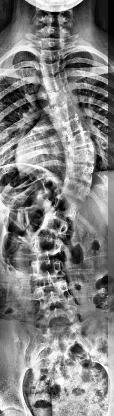Vertebrae: (33, 278, 73, 306), (28, 257, 72, 279), (25, 235, 67, 257), (40, 209, 72, 237), (39, 310, 85, 328), (51, 194, 84, 218), (56, 118, 94, 138), (67, 162, 97, 186), (58, 131, 96, 149), (63, 178, 91, 202), (63, 148, 102, 164), (46, 92, 76, 112), (51, 106, 82, 124), (44, 76, 70, 96), (40, 63, 66, 79), (40, 51, 66, 66), (39, 38, 64, 53)
